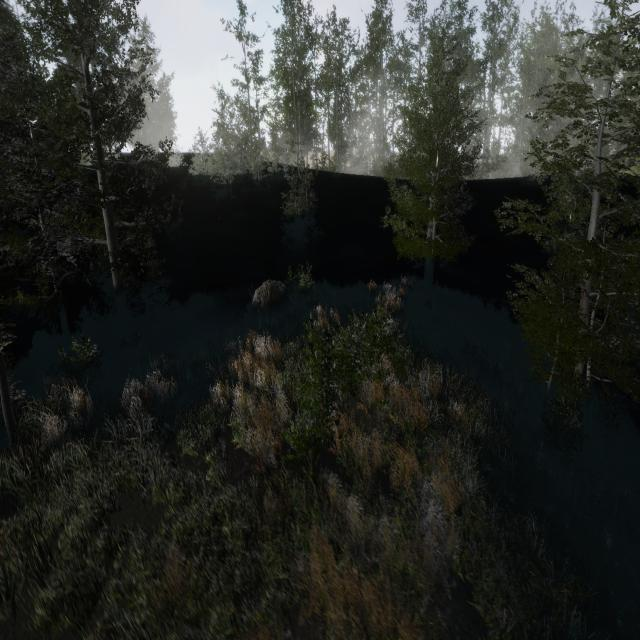Human: (309, 300, 332, 364)
